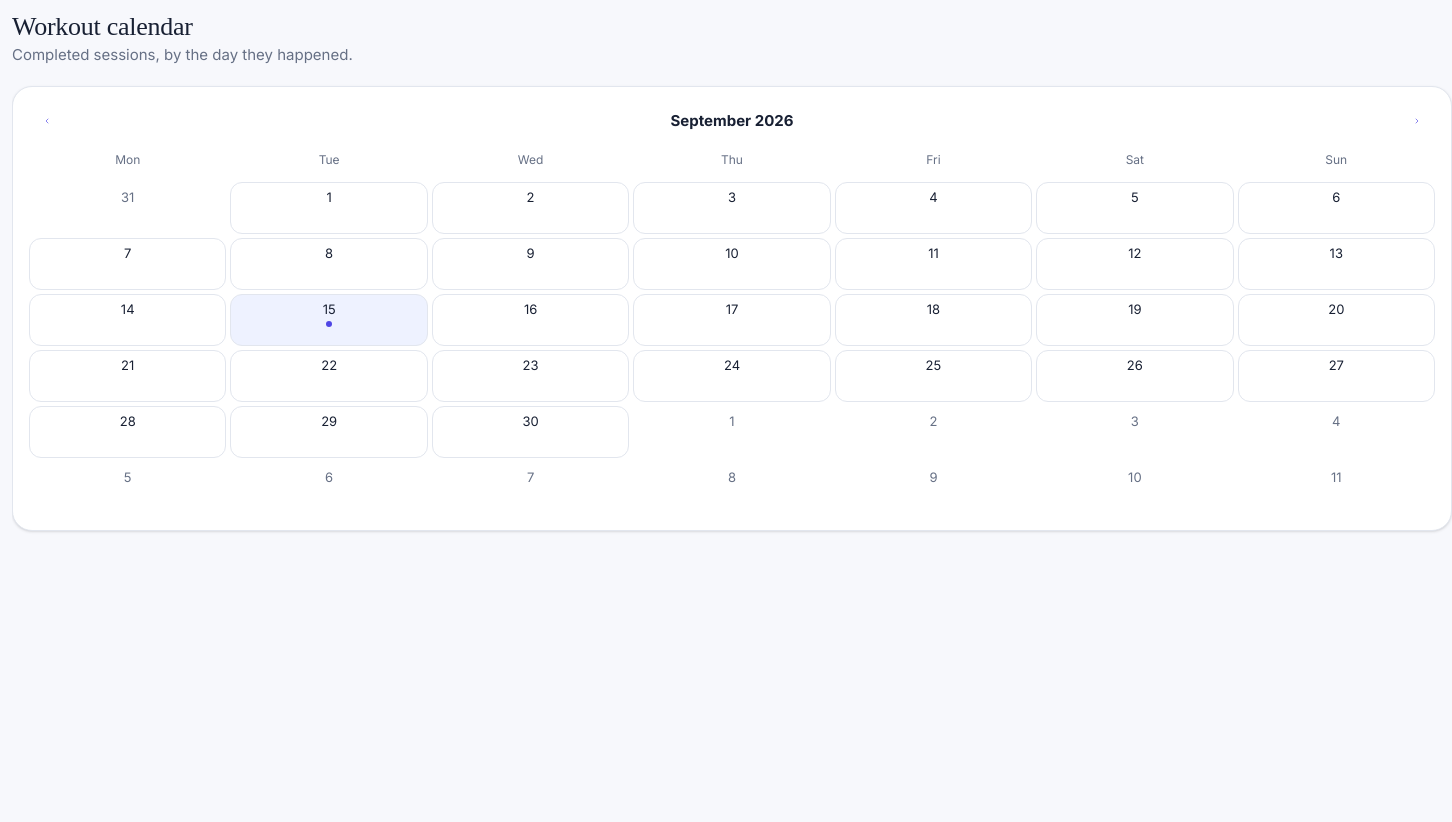
Test case: WorkoutCalendarScreen › marks a day with a session and opens it on click
Note: The 15th has a session marker.
Click the button named "1 session" at (329, 320), box [230, 294, 428, 346]
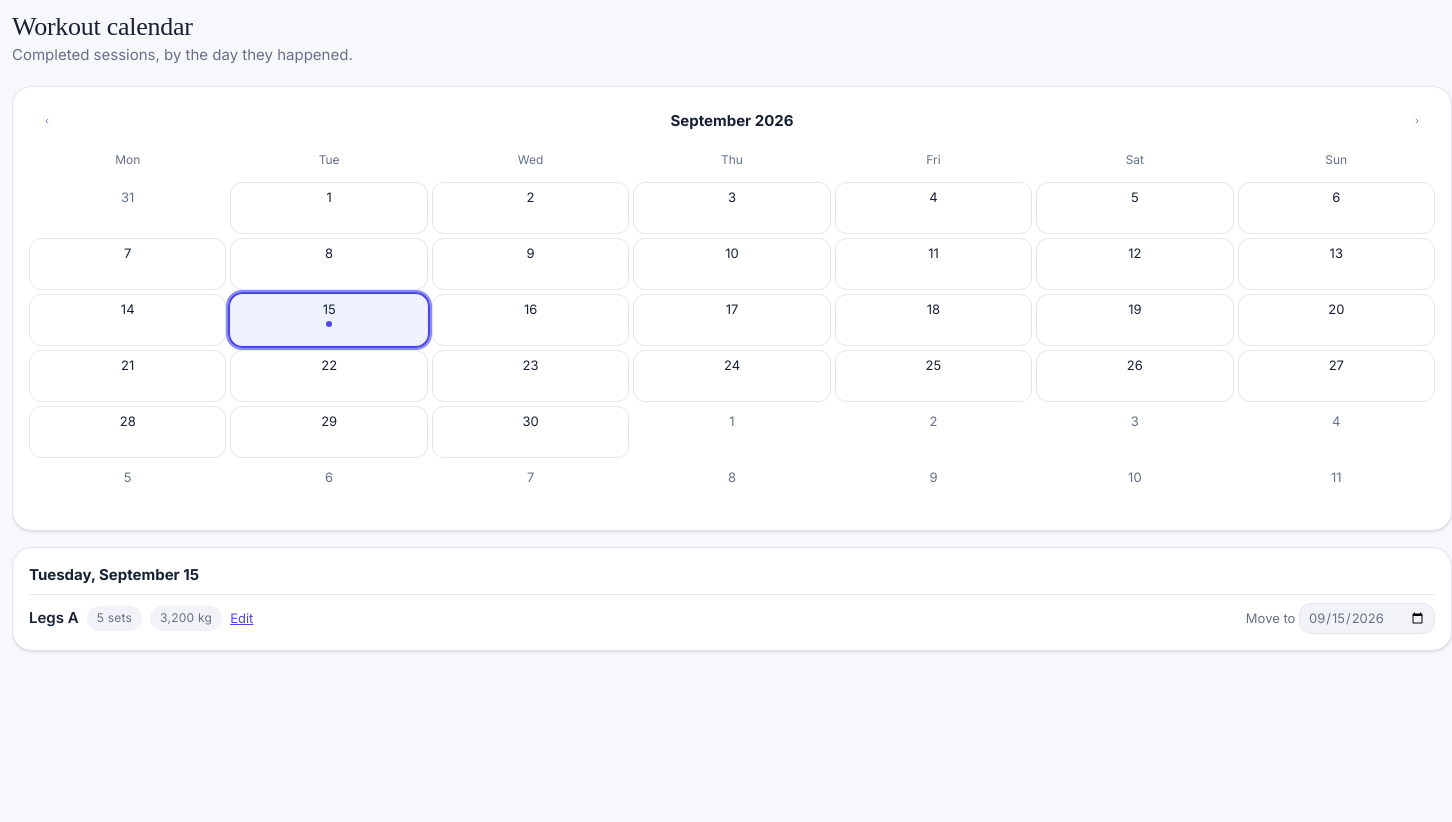
Check: the text "Legs A" is shown, box [29, 607, 79, 630]
Check: the text "5 sets" is shown, box [87, 606, 142, 631]
